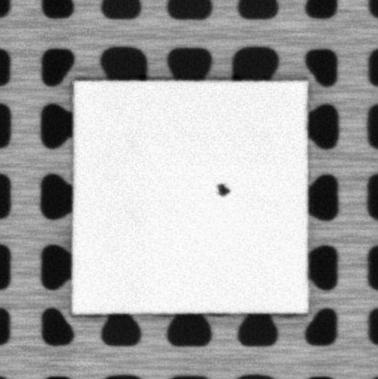DIE_INK: (215, 181, 233, 198)
